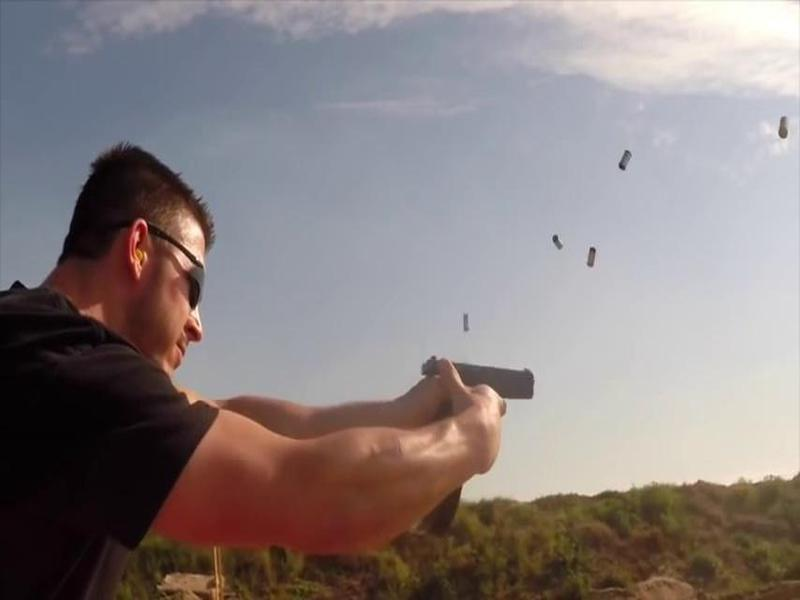Pistola: (392, 353, 551, 449)
